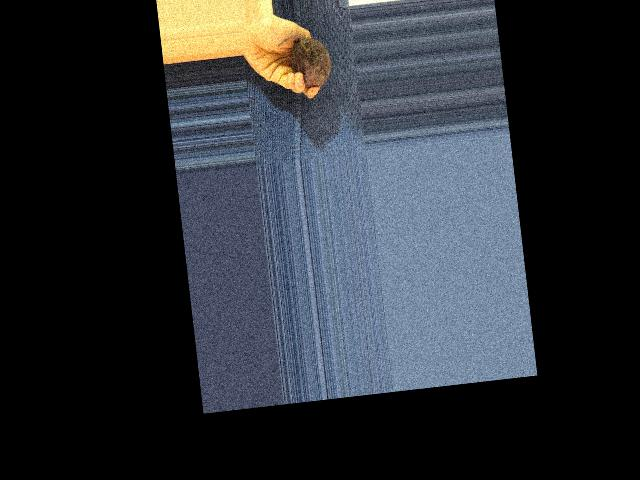beet: (275, 31, 332, 91)
